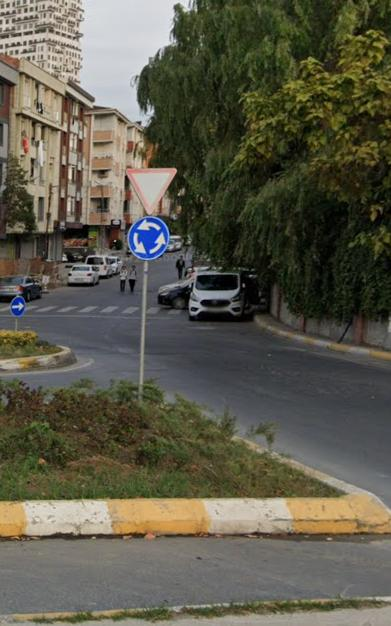crossroads: (128, 216, 171, 259)
turnright: (10, 296, 26, 317)
